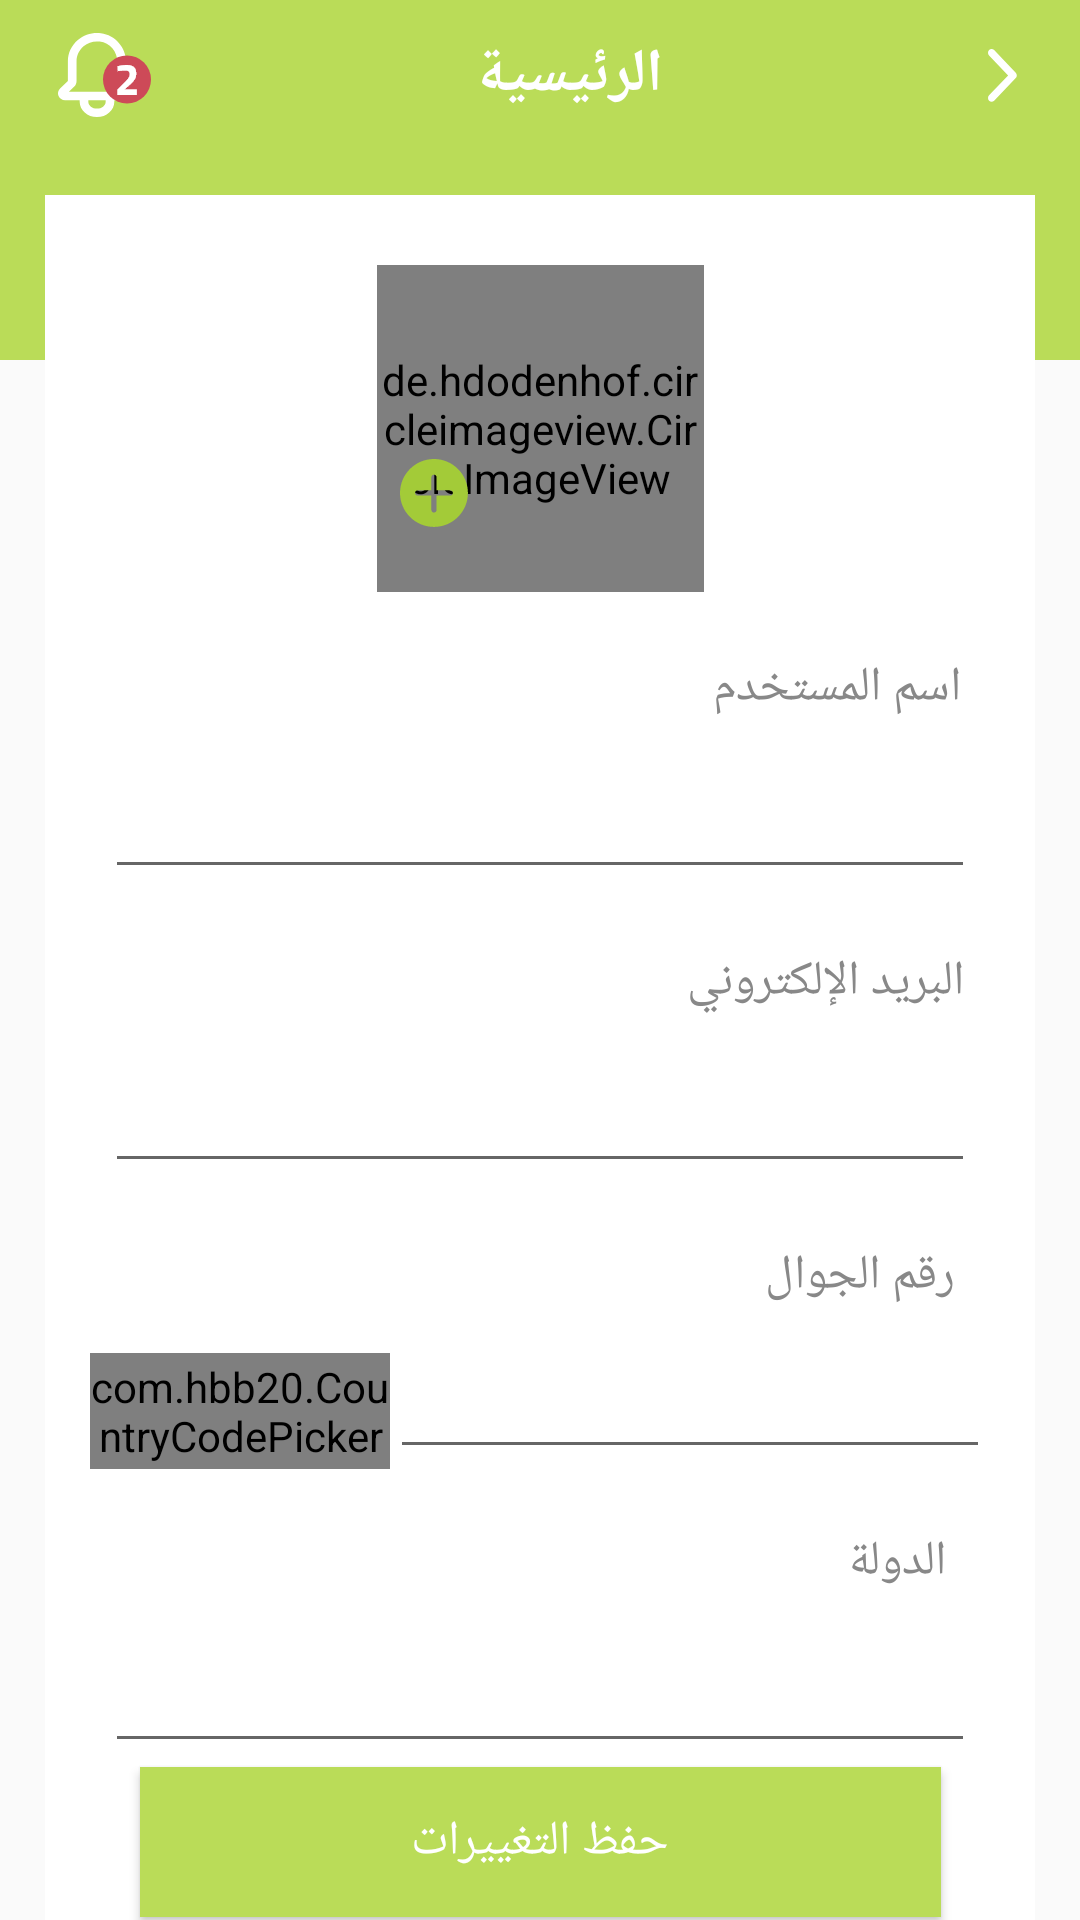

Where icons sit on this 1080 × 1920 app screen, as bbox=[x1, y1, x2, y2]:
plus: bbox=[400, 459, 468, 527]
